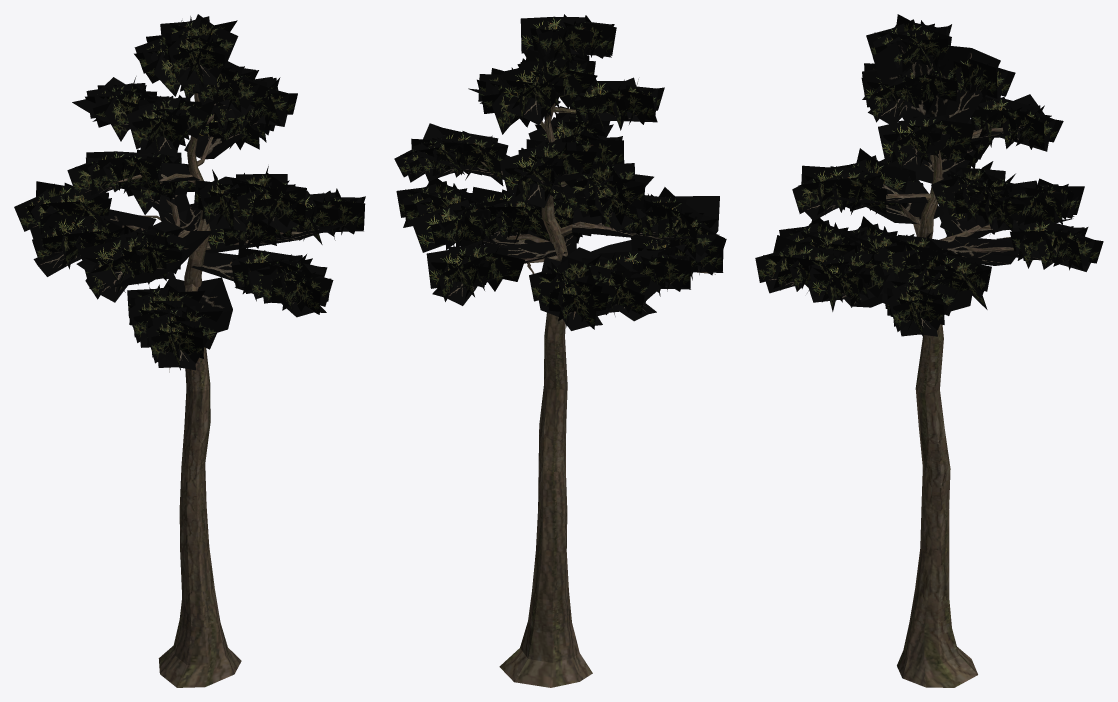
File: bg_anh_tree_pinetree02_sm_ysi.FBX
3 renders of one model, left to right at view 1: azimuth 30°, elevation 25°; view 2: azimuth 150°, elevation 25°; view 3: azimuth 270°, elevation 25°, orthographic. The views are drawn at different scales.
Parts seen in each view (by area): view 1: bg_anh_tree_pinetree02_sm_ysi; view 2: bg_anh_tree_pinetree02_sm_ysi; view 3: bg_anh_tree_pinetree02_sm_ysi.
Boxes of the visible parts, <box> form: bg_anh_tree_pinetree02_sm_ysi: <box>14,14,365,687</box>; bg_anh_tree_pinetree02_sm_ysi: <box>394,14,726,687</box>; bg_anh_tree_pinetree02_sm_ysi: <box>755,14,1103,687</box>.
Bounding box in the file's own units: 340 × 693 × 342.
